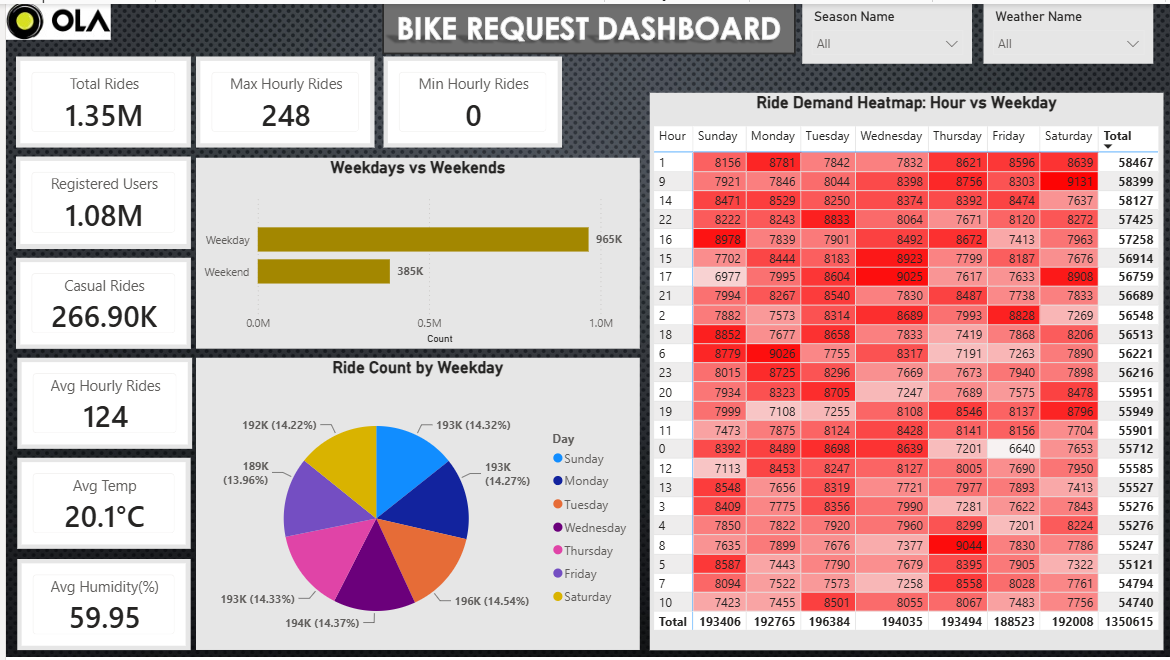

The dashboard page shown, as its layout file describes it:
{"tool":"powerbi","page":{"name":"Time Analysis","canvas":[1280,720],"ordinal":1},"visuals":[{"type":"cardVisual","fields":{"Data":["Sum(OLA.Count)"]},"box":[11,57.6,192.1,100.2],"z":0},{"type":"cardVisual","fields":{"Data":["Max(OLA.Count)"]},"box":[208.6,57.6,196.2,100.2],"z":1000},{"type":"cardVisual","fields":{"Data":["OLA.AvgTemp"]},"box":[12.3,498.1,190.7,100.2],"z":2000},{"type":"cardVisual","fields":{"Data":["Min(OLA.Count)"]},"box":[414.4,57.6,196.2,100.2],"z":3000},{"type":"cardVisual","fields":{"Data":["Sum(OLA.Registered)"]},"box":[11,167.4,192.1,101.5],"z":4000},{"type":"cardVisual","fields":{"Data":["Sum(OLA.Casual)"]},"box":[11,278.6,192.1,100.2],"z":5000},{"type":"cardVisual","fields":{"Data":["OLA.Avg Hourly Rides"]},"box":[12.3,388.3,192.1,100.2],"z":6000},{"type":"cardVisual","fields":{"Data":["OLA.Average Humidity"]},"box":[12.3,609.3,190.7,100.2],"z":7000},{"type":"pieChart","title":"Ride Count by Weekday","fields":{"Category":["OLA.Day Name"],"Y":["Sum(OLA.Count)"]},"box":[208.6,388.3,487.1,321.1],"z":8000},{"type":"clusteredBarChart","title":"Weekdays vs Weekends","fields":{"Category":["OLA.Day Type"],"Y":["Sum(OLA.Count)"]},"box":[208.6,168.8,487.1,209.9],"z":9000},{"type":"pivotTable","title":"Ride Demand Heatmap: Hour vs Weekday","fields":{"Columns":["OLA.Day Name"],"Rows":["OLA.Hour"],"Values":["Sum(OLA.Count)"]},"box":[706.7,97.4,564,612],"z":10000},{"type":"slicer","fields":{"Values":["OLA.Season Name"]},"box":[874.1,0,186.6,65.9],"z":10001},{"type":"slicer","fields":{"Values":["OLA.Weather Name"]},"box":[1073.1,0,186.6,65.9],"z":10002}]}

Visuals, with their boxes in screenshot pixels (x1, y1, x2, y2), scaled from the page's 1280x720 canvas onto the 1170x660 screenshot:
cardVisual - Sum(OLA.Count): locate(10, 53, 186, 145)
cardVisual - Max(OLA.Count): locate(191, 53, 370, 145)
cardVisual - OLA.AvgTemp: locate(11, 457, 186, 548)
cardVisual - Min(OLA.Count): locate(379, 53, 558, 145)
cardVisual - Sum(OLA.Registered): locate(10, 153, 186, 246)
cardVisual - Sum(OLA.Casual): locate(10, 255, 186, 347)
cardVisual - OLA.Avg Hourly Rides: locate(11, 356, 187, 448)
cardVisual - OLA.Average Humidity: locate(11, 559, 186, 650)
"Ride Count by Weekday" pieChart: locate(191, 356, 636, 650)
"Weekdays vs Weekends" clusteredBarChart: locate(191, 155, 636, 347)
"Ride Demand Heatmap: Hour vs Weekday" pivotTable: locate(646, 89, 1161, 650)
slicer - OLA.Season Name: locate(799, 0, 970, 60)
slicer - OLA.Weather Name: locate(981, 0, 1151, 60)
